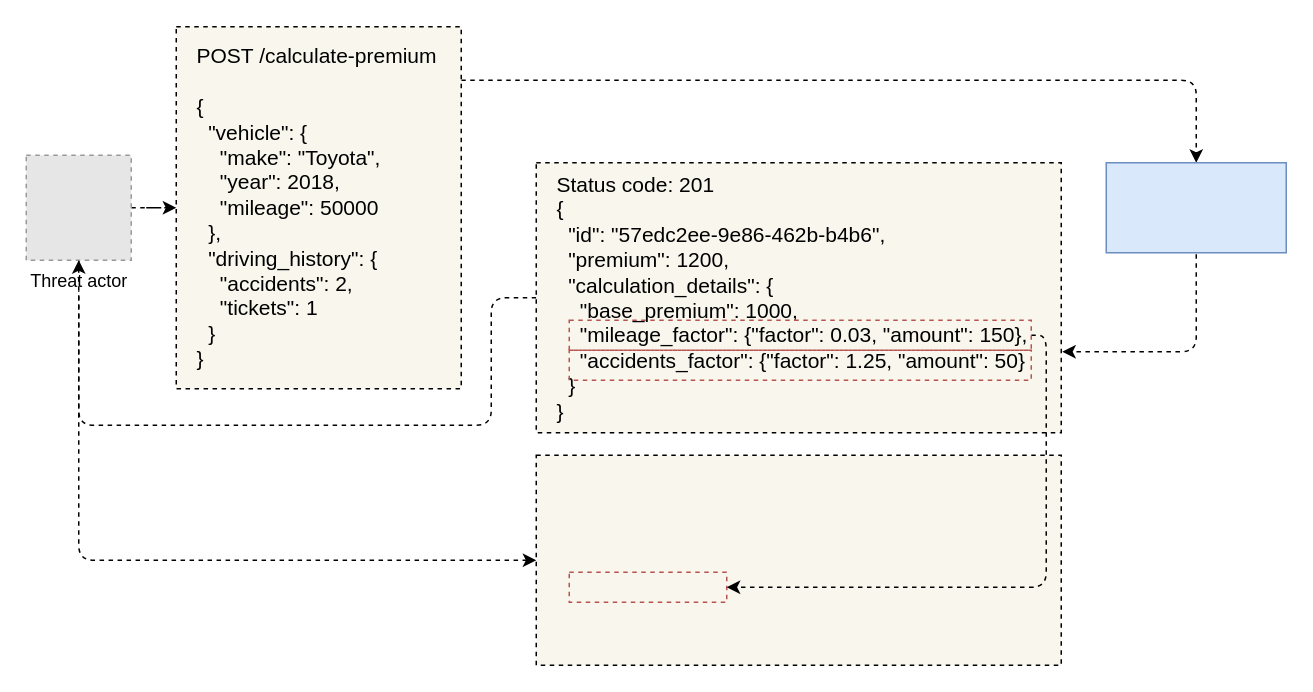
This 1313x692 diagram has some shape labels left out. Grey dashed boxes stand in for pictures. Each missing label, with the box of its shape:
Car insurance API: (1105, 161, 1286, 253)
PUT /update-premium/57edc2ee-9e86-462b-b4b6 { "vehicle": { "mileage": 500 } }: (535, 454, 1061, 665)
